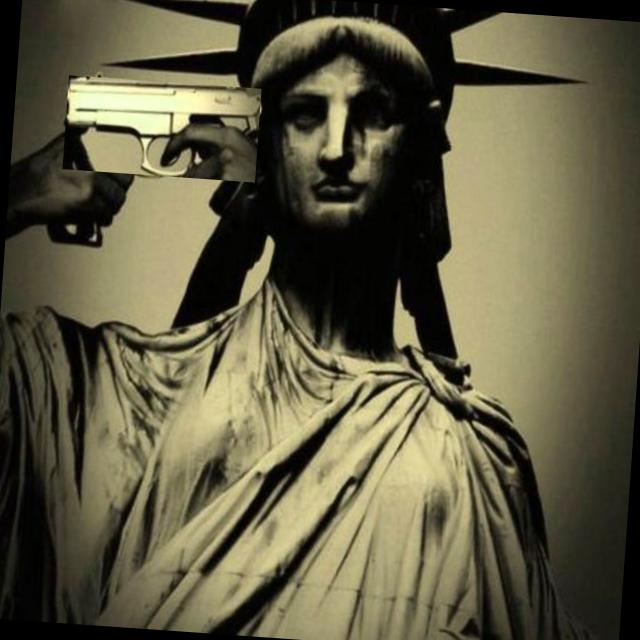Gun: (67, 80, 260, 177)
